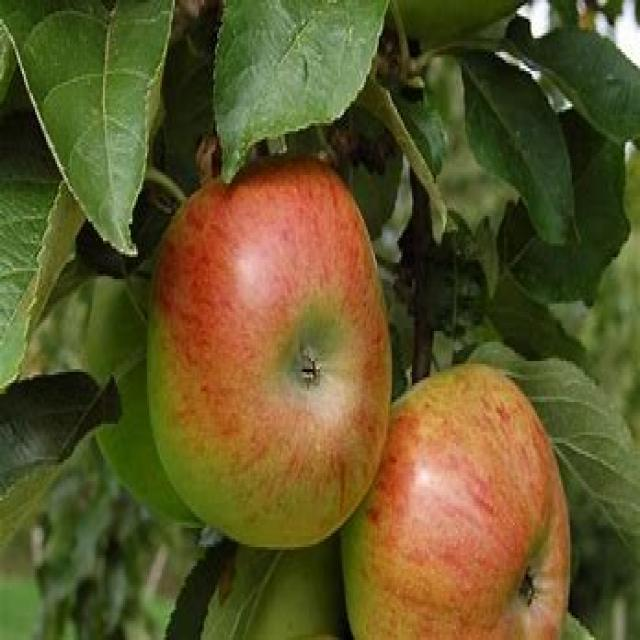Apple: (152, 152, 392, 540), (339, 353, 572, 640)
